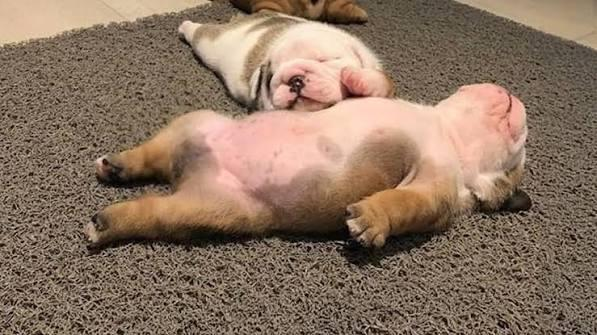adult_dog: (228, 0, 370, 27)
puppy-dog: (83, 81, 533, 246), (175, 13, 393, 111)
